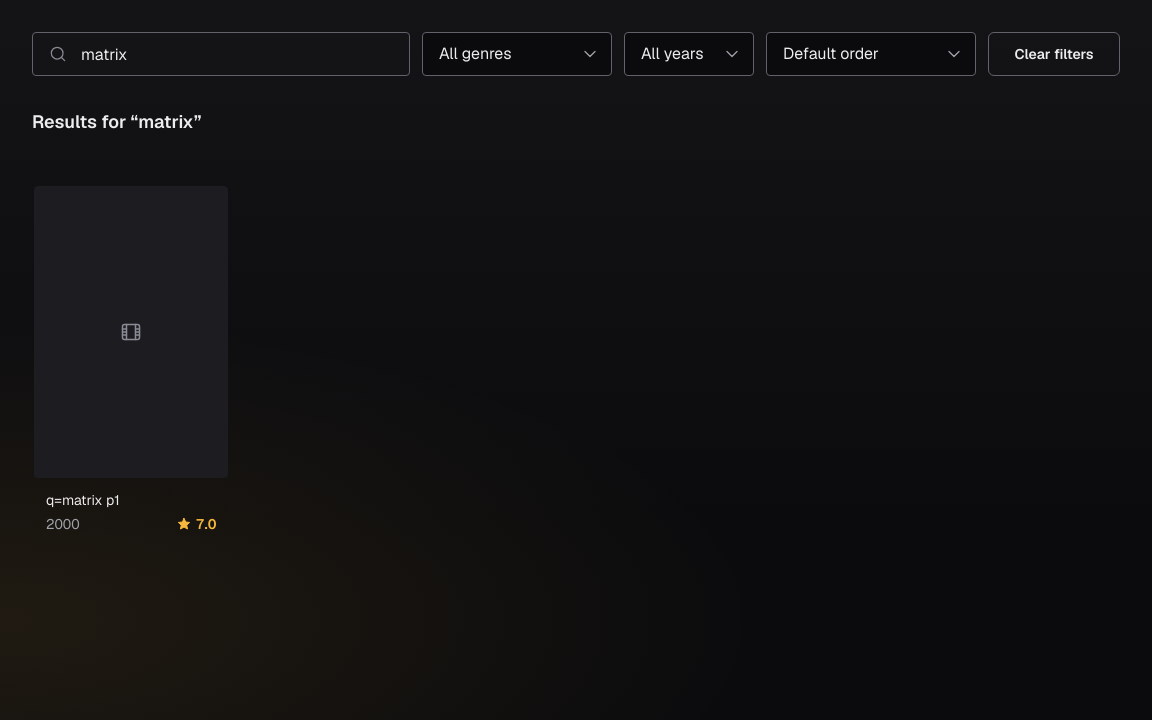
Test: ExplorerClient — filters › selecting a filter while a search is active clears the query (RF-7)
Expected: the field named "Search movies" holds "matrix", [32,32,410,76]
Expected: the heading "q=matrix p1" is shown, [46,491,120,509]
Select "Drama" in the 1st dropdown named "Genre". click: (517, 54)
box: [422,32,612,76]
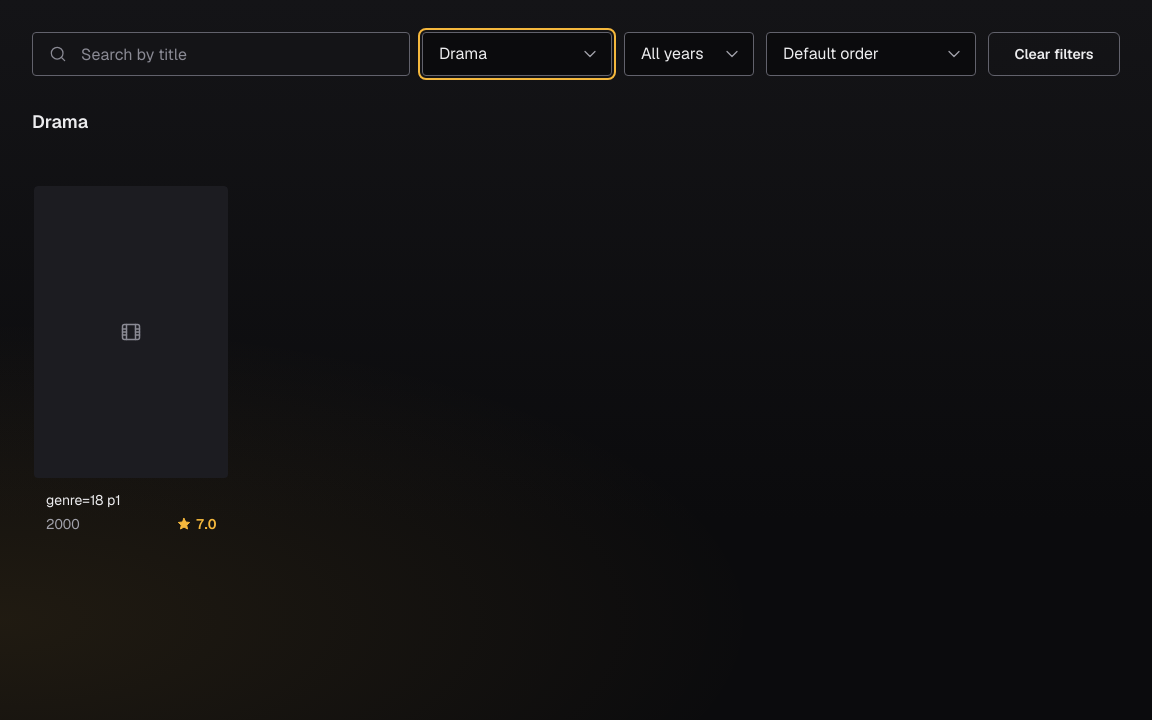
Result: the field named "Search movies" is empty at [32,32,410,76]
Result: the heading "genre=18 p1" is shown at [46,491,121,509]
